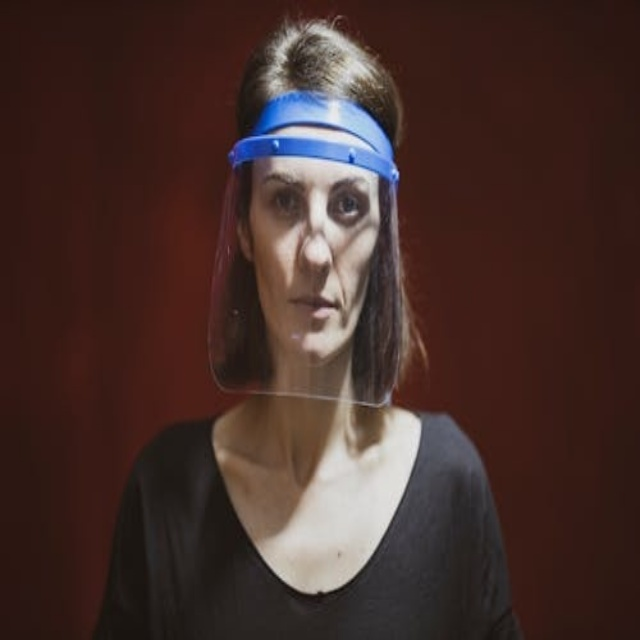Sin_gafas: (255, 165, 376, 233)
Sin_mascara: (270, 281, 346, 342)
